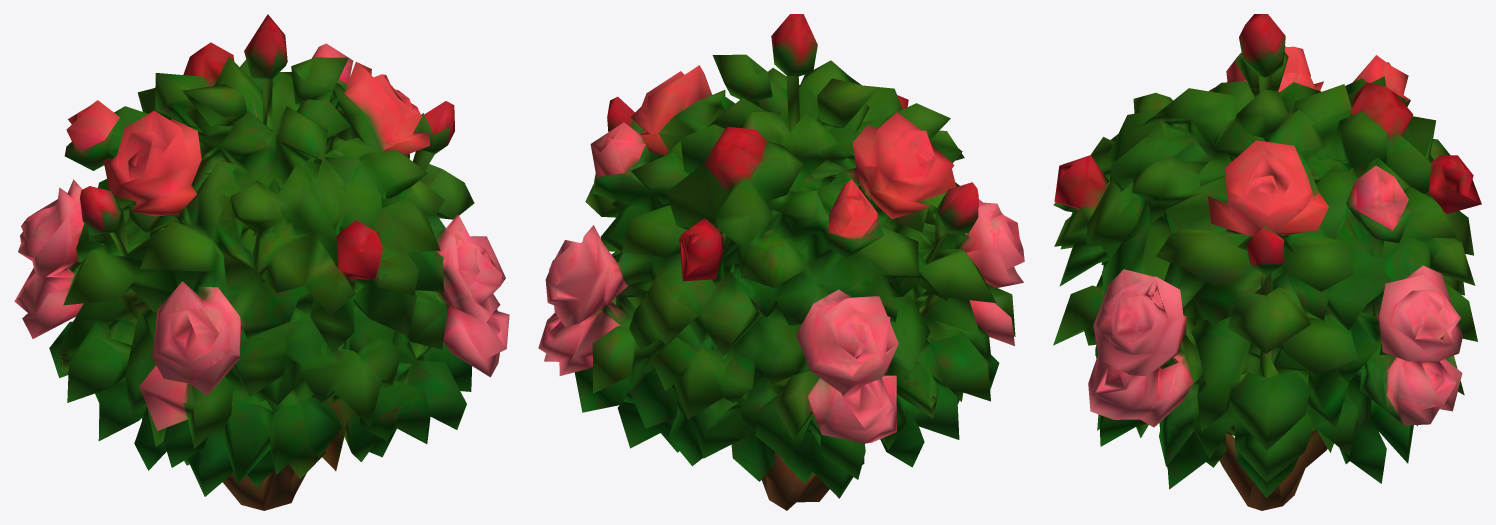
File: roses.glb
3 views of the same model, side by side, from view 1: azimuth 30°, elevation 25°; view 2: azimuth 150°, elevation 25°; view 3: azimuth 270°, elevation 25° (orthographic).
Visible parts, largest first — view 1: model; view 2: model; view 3: model.
Part boxes in pixels (<box>): model: <box>14,14,509,510</box>; model: <box>538,14,1024,510</box>; model: <box>1053,14,1481,510</box>.
Size of the model in its own units: 1.69 by 1.9 by 1.52.
Materials: 1 (1 with a texture image).
